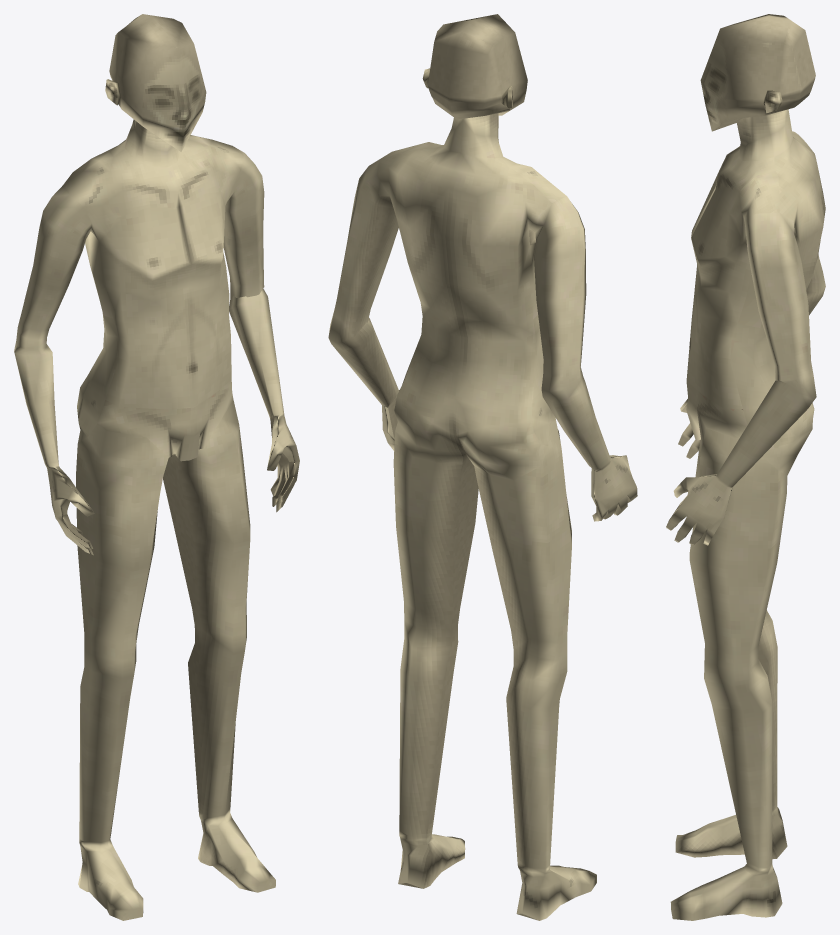
The model's file is mannequin_smooth_idle.fbx.
3 views of the same model, side by side, from view 1: azimuth 30°, elevation 25°; view 2: azimuth 150°, elevation 25°; view 3: azimuth 270°, elevation 25° (orthographic). The views are drawn at different scales.
Parts seen in each view (by area): view 1: body, mannequin_chest_clean1, head; view 2: body, head; view 3: body, mannequin_chest_clean1, head.
Boxes of the visible parts, <box> form: body: <box>14,119,299,920</box>; mannequin_chest_clean1: <box>99,192,231,409</box>; head: <box>105,14,206,151</box>; body: <box>328,113,637,920</box>; head: <box>422,14,527,119</box>; body: <box>666,109,825,920</box>; mannequin_chest_clean1: <box>686,170,760,408</box>; head: <box>700,14,815,131</box>.
Bounding box in the file's own units: 73.08 × 236 × 39.56.
Materials: 9 (9 with a texture image).
